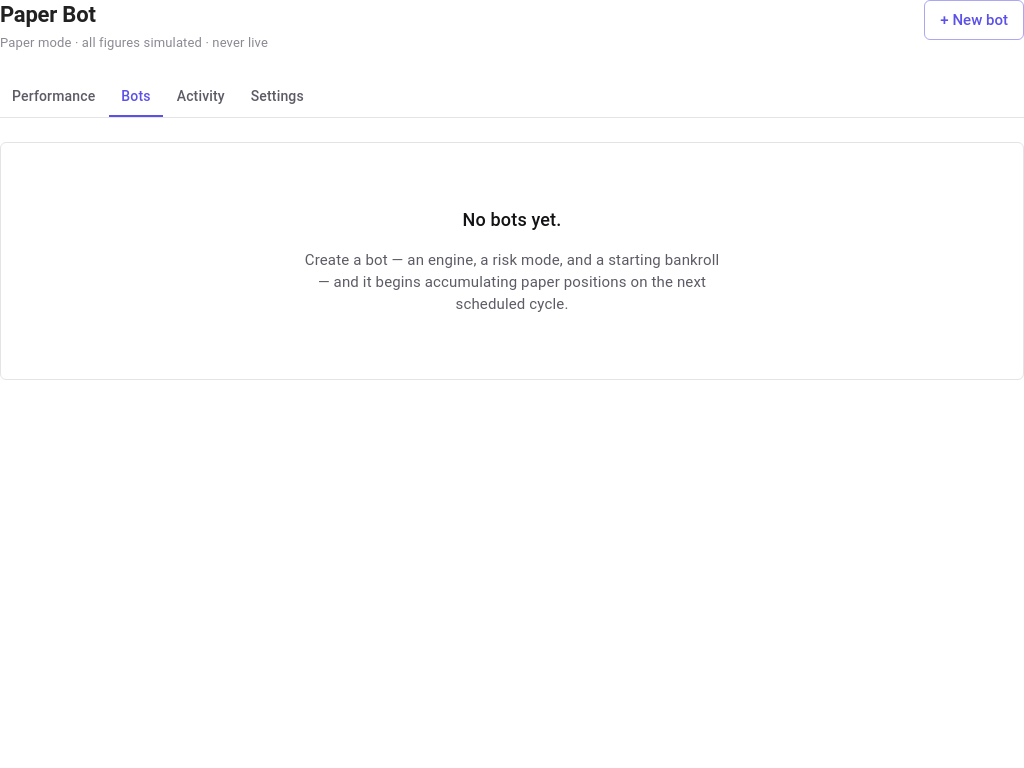
Test case: Paper Bot create form › surfaces a server error inline without routing away
Click the button "+ New bot" at [974, 20], box left=924, top=0, right=1023, bottom=40
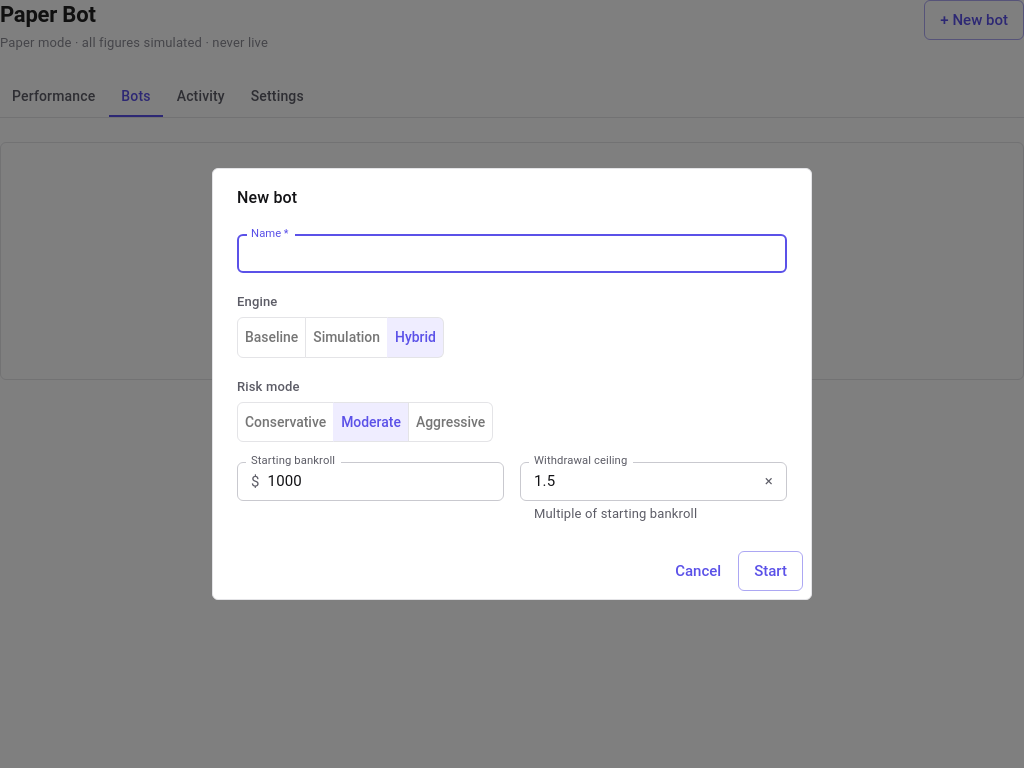
Type "Bad bot" into the field labelled "Name *" at [512, 254], box left=237, top=235, right=787, bottom=274
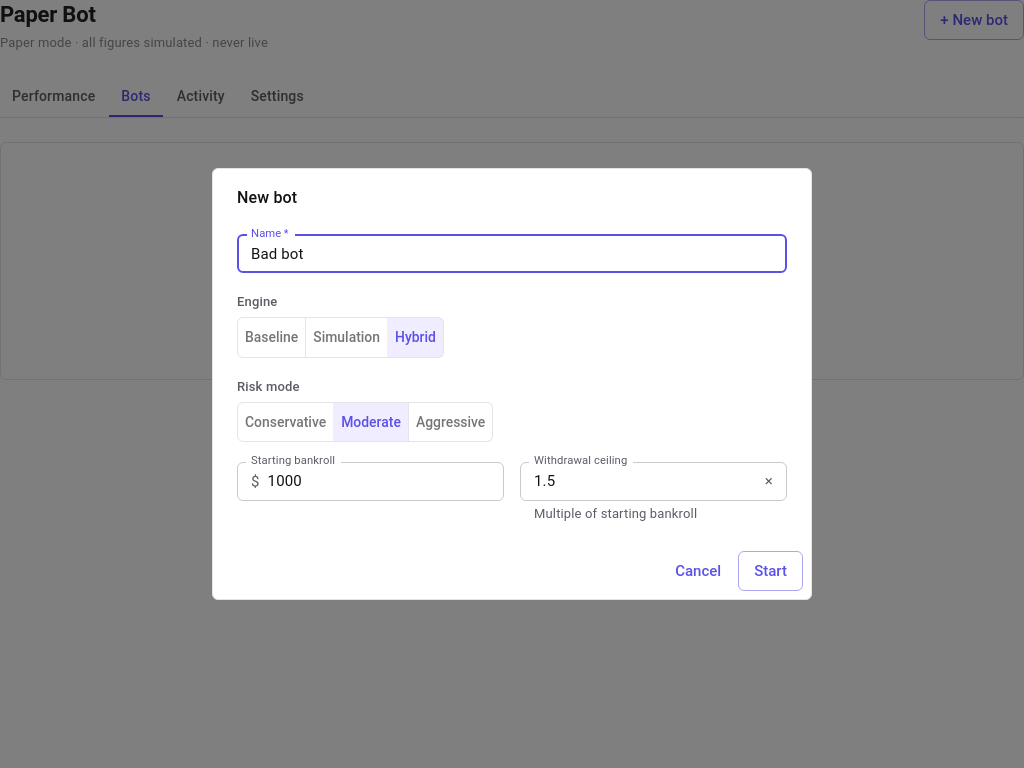
Click the button "Start" at [771, 571], box left=738, top=551, right=803, bottom=591
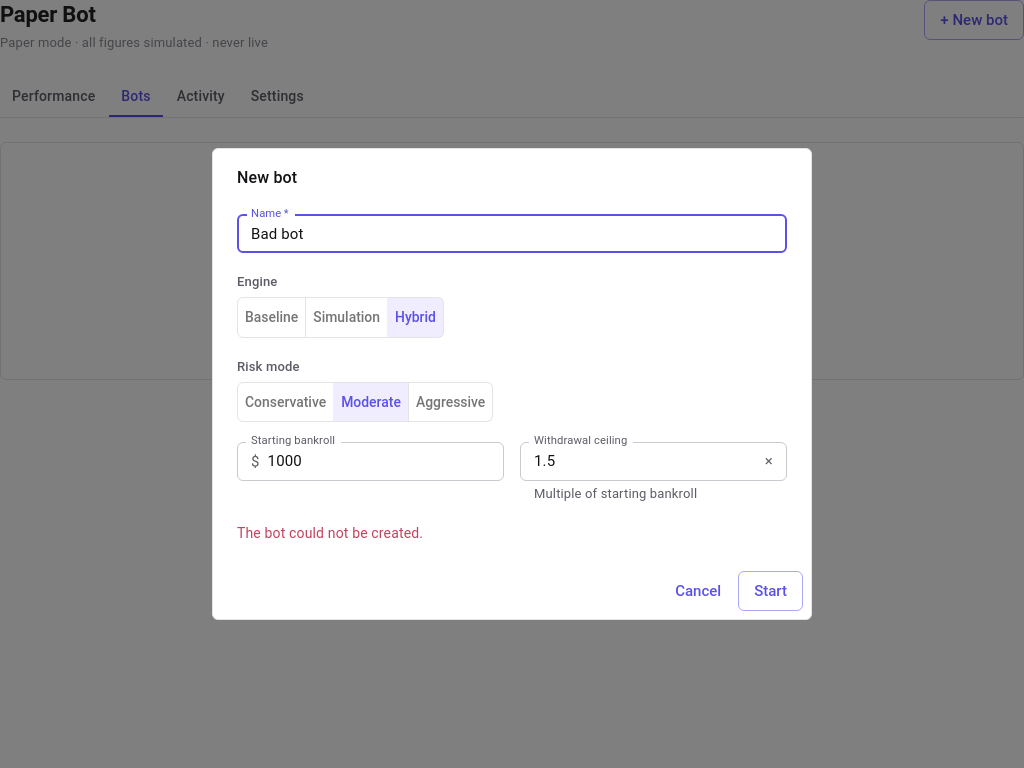
Result: the text "The bot could not be created." is shown at left=237, top=525, right=423, bottom=541
